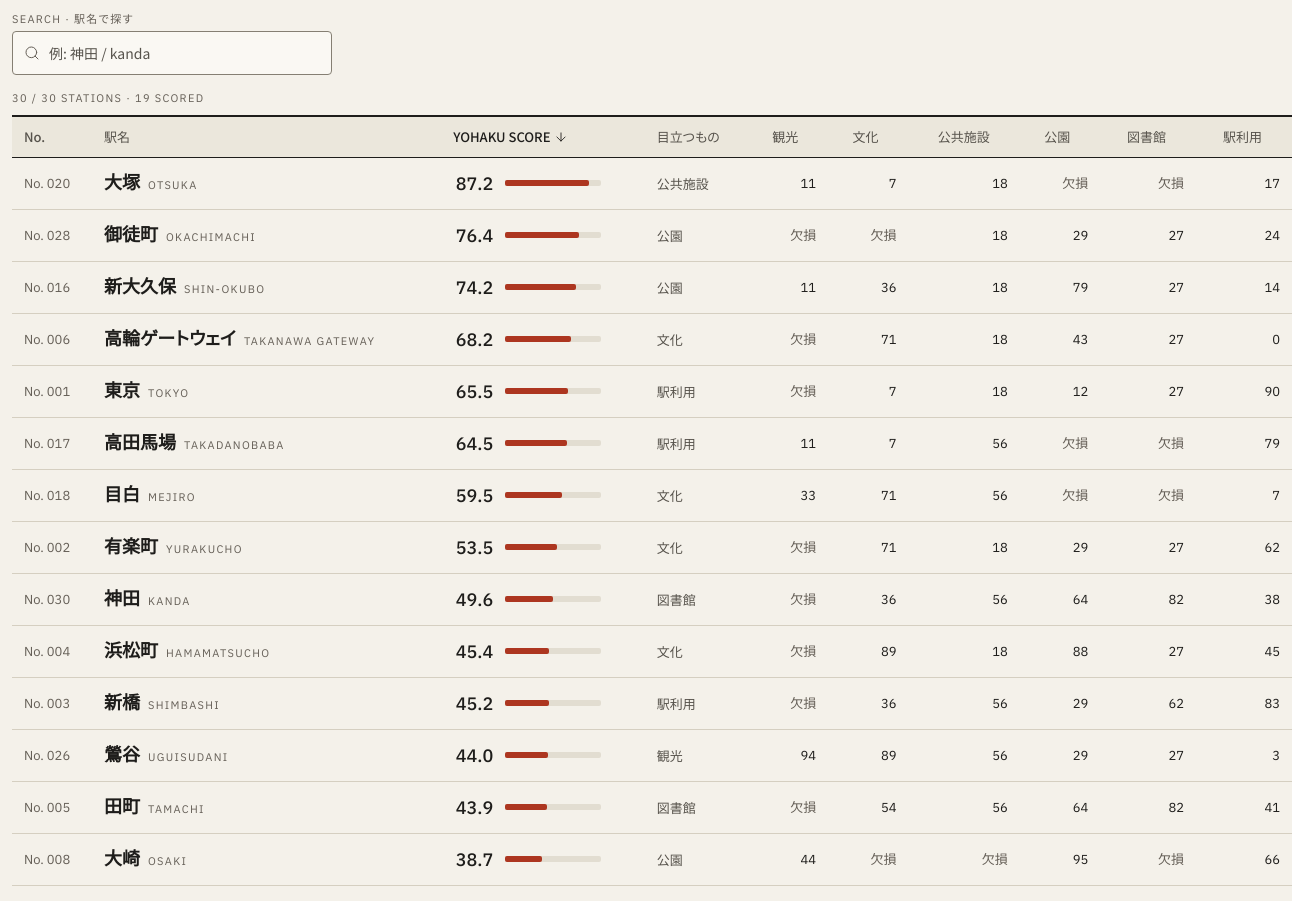
StationLedger › shows an empty state
The image size is (1292, 901).
Type "存在しない駅" into the search field labelled "Search · 駅名で探す".
click(172, 53); type("存在しない駅")  # box top-left (12, 31), bottom-right (332, 75)
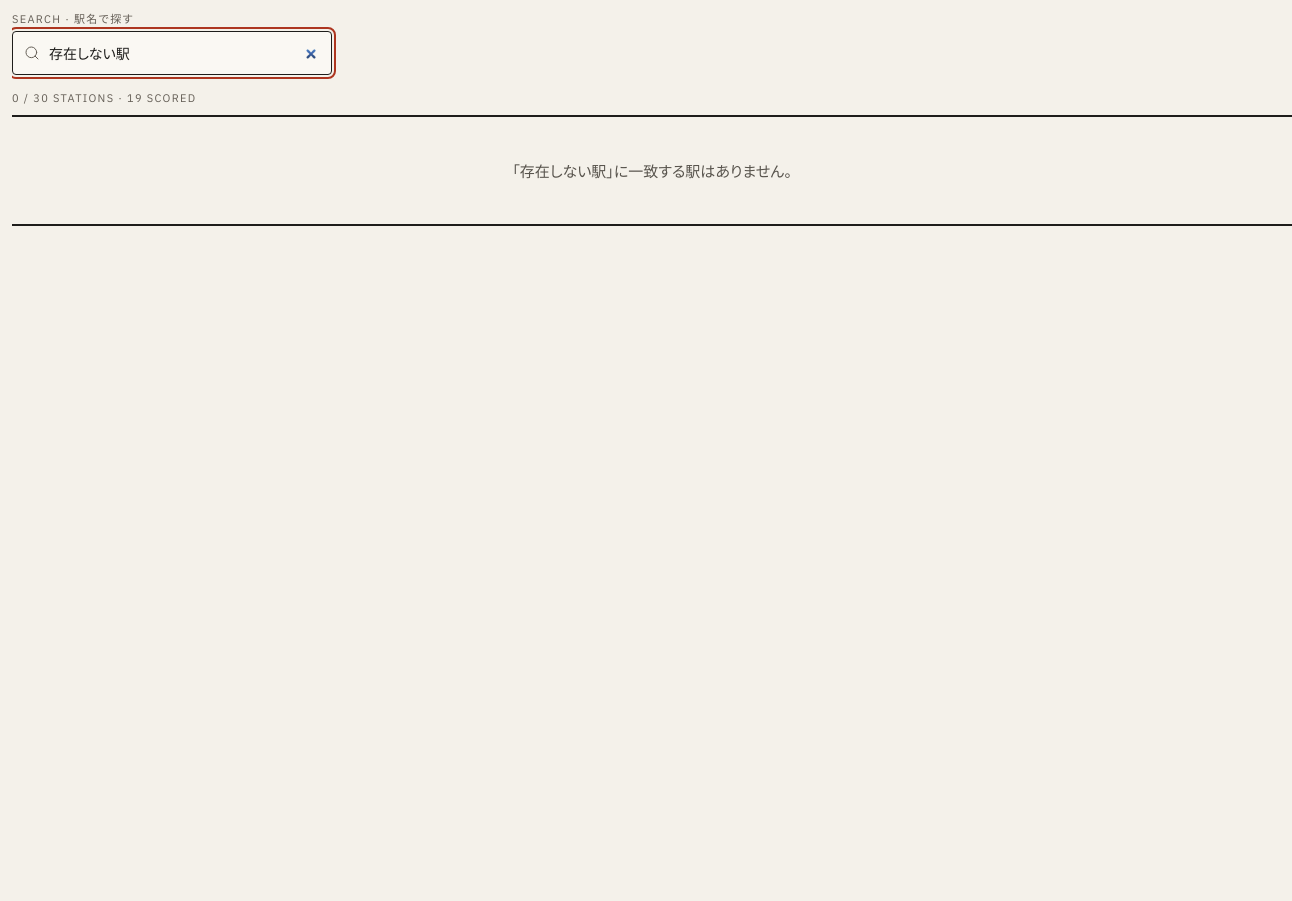
Result: the text "「存在しない駅」に一致する駅はありません。" is shown at top-left (12, 115), bottom-right (1291, 226)
